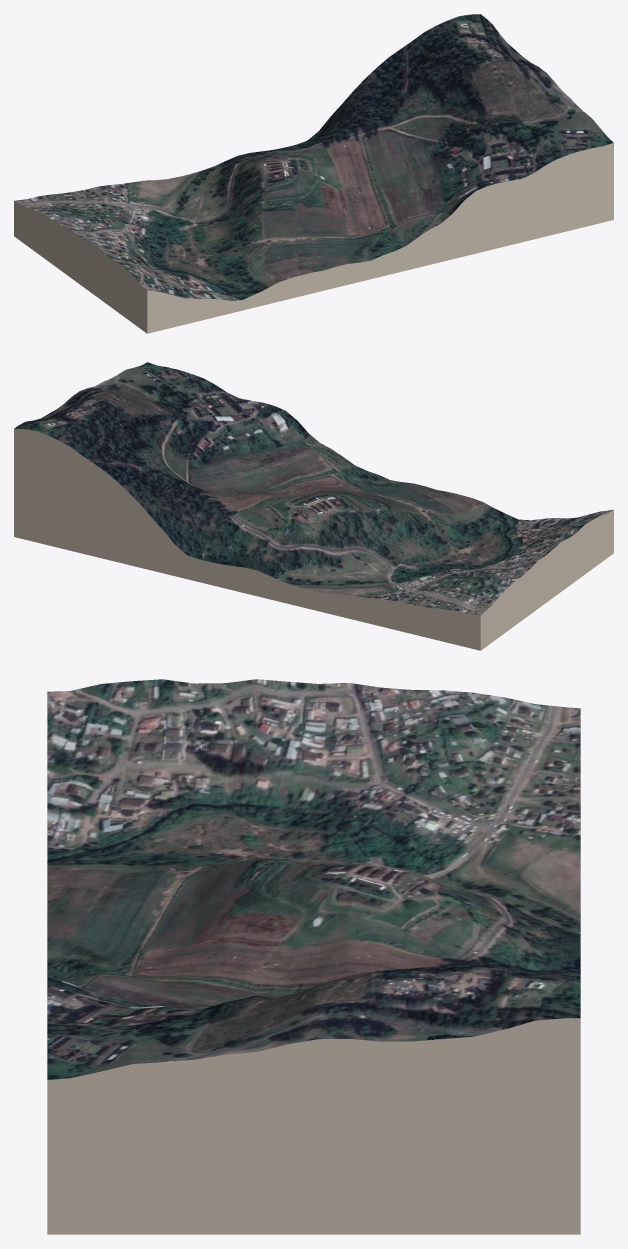
The model's file is edamame.gltf.
The picture shows the model from 3 angles, top to bottom: view 1: azimuth 30°, elevation 25°; view 2: azimuth 150°, elevation 25°; view 3: azimuth 270°, elevation 25°; orthographic projection. The views are drawn at different scales.
Parts seen in each view (by area): view 1: s30_e030_1arc_v3, side (×2); view 2: s30_e030_1arc_v3, side (×2); view 3: s30_e030_1arc_v3, side.
Part boxes in pixels (left/top/right/bottom): s30_e030_1arc_v3: left=14, top=14, right=613, bottom=300; side (×2): left=14, top=142, right=613, bottom=333; s30_e030_1arc_v3: left=14, top=362, right=613, bottom=615; side (×2): left=14, top=428, right=613, bottom=650; s30_e030_1arc_v3: left=47, top=679, right=580, bottom=1079; side: left=47, top=1018, right=580, bottom=1234.
Bounding box in the file's own units: 100 × 22.82 × 49.46.
Materials: 2 (1 with a texture image).
